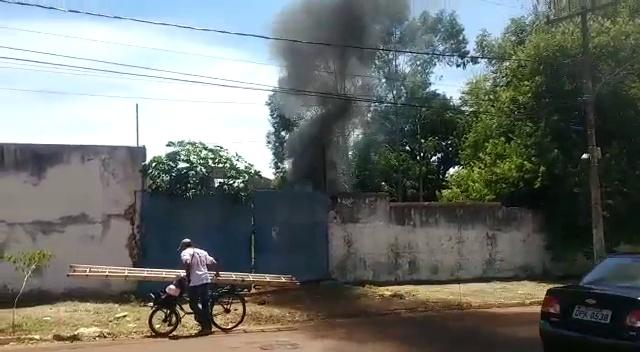smoke: (281, 12, 372, 63)
